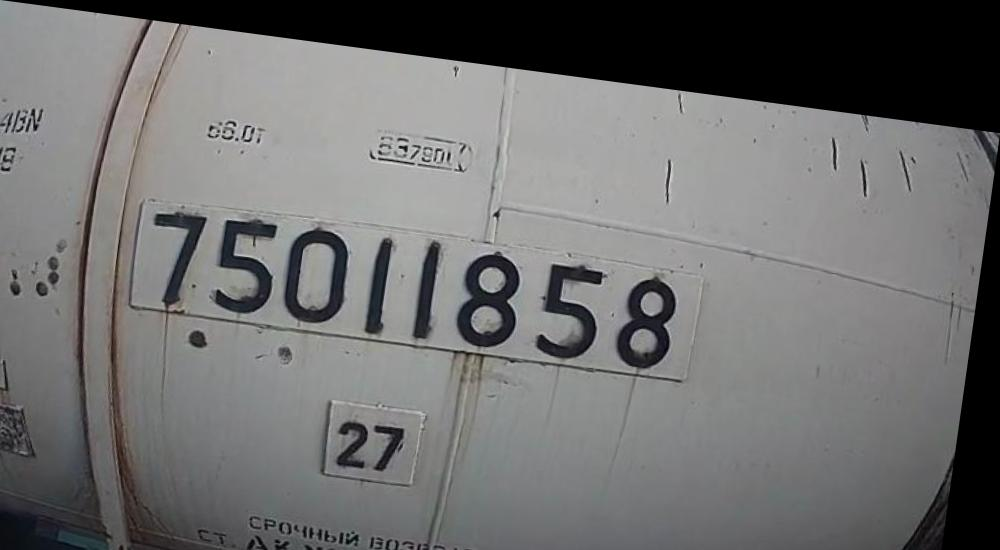Wagon-number: (145, 192, 690, 361)
